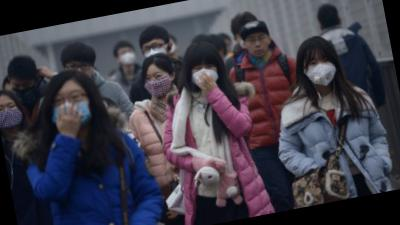with_mask: (45, 85, 95, 134), (300, 51, 341, 92), (186, 60, 224, 93), (143, 69, 176, 99), (10, 76, 39, 107), (140, 39, 171, 62), (116, 48, 138, 69)
without_mask: (64, 57, 96, 85), (242, 31, 273, 59)
